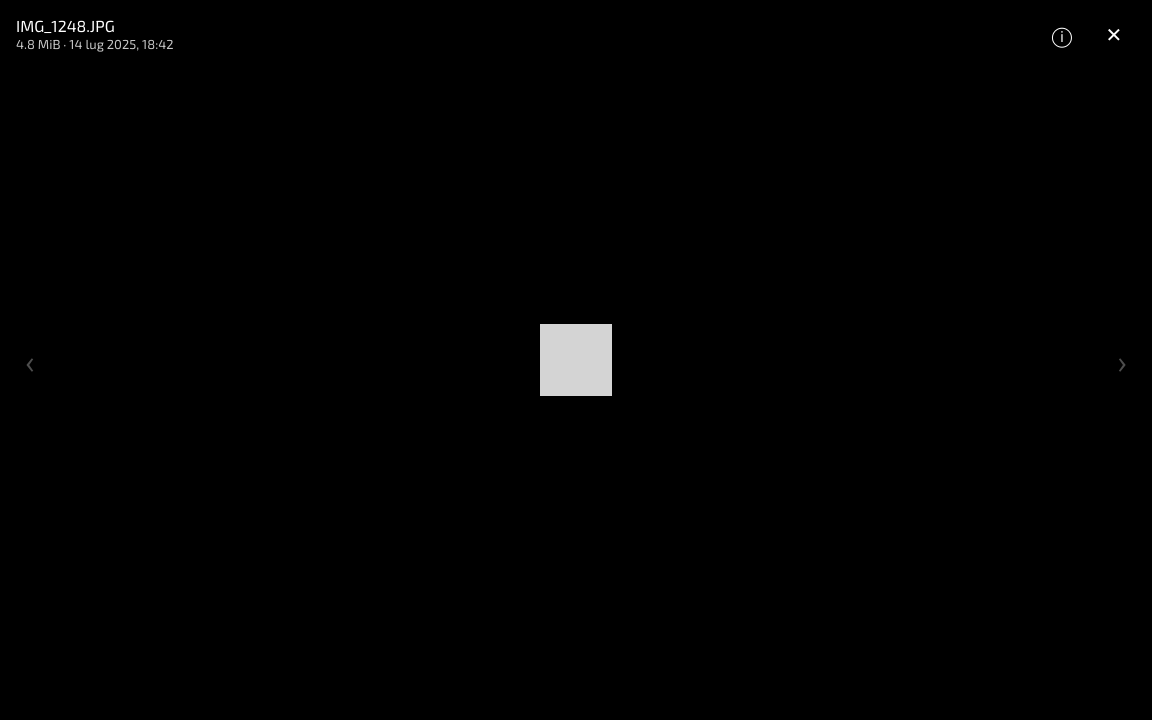
Test: MediaViewer summary › reuses the loaded document in the default drawer without a second request
Expected: the text "4.8 MiB · 14 lug 2025, 18:42" is shown, [16,36,174,52]
Click the button named "Dettagli": {"x": 1062, "y": 34} [1040,12,1084,56]
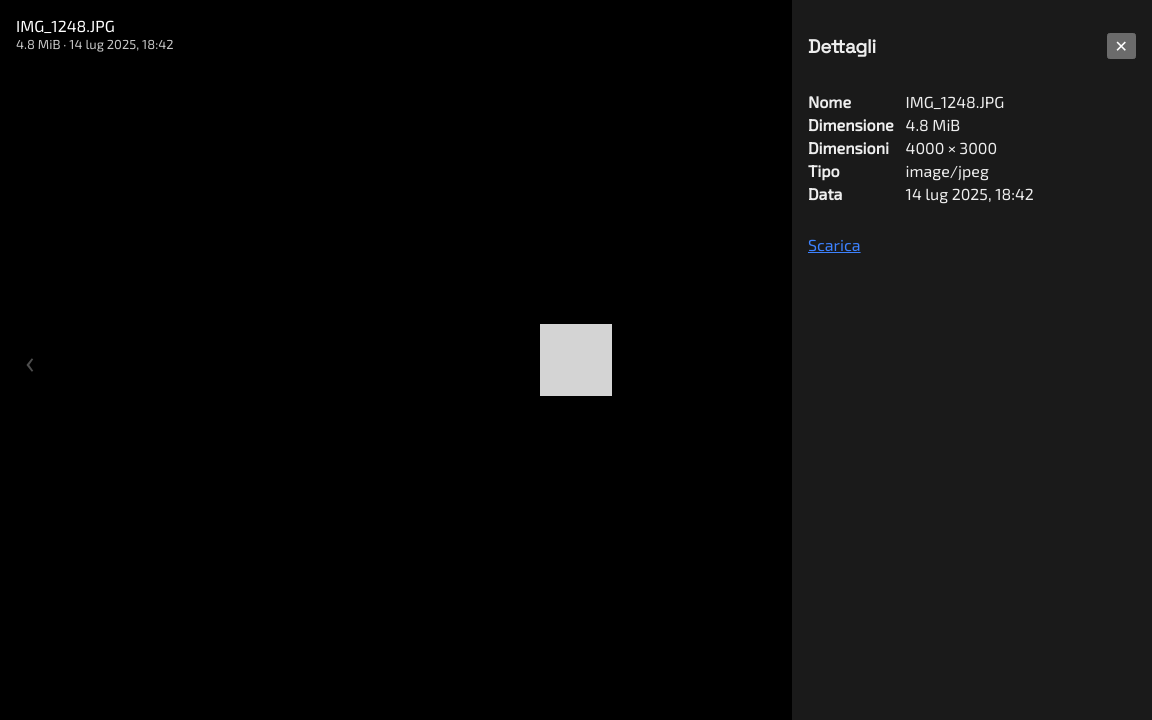
Result: the link "Scarica" is shown at [808,235,861,254]
